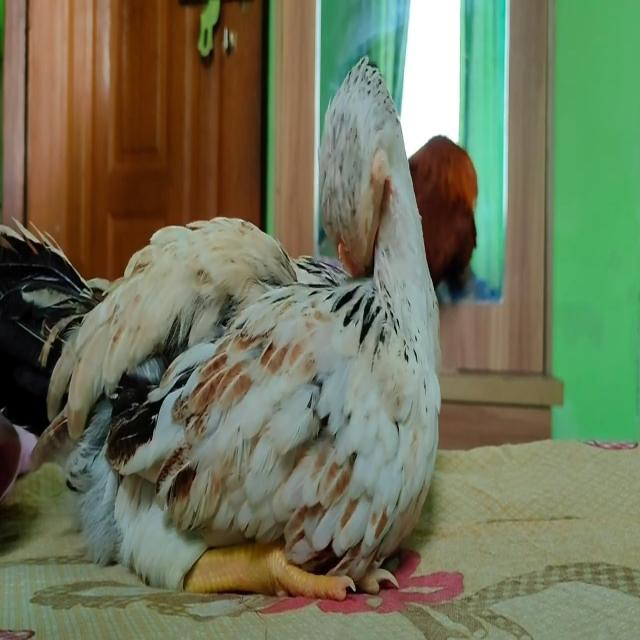self preening: (0, 48, 442, 601)
